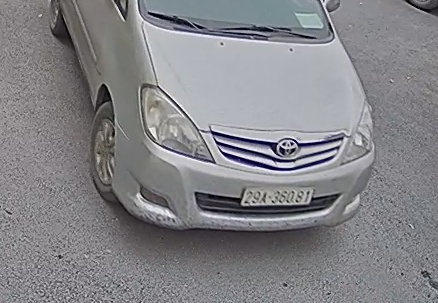vehicle plate: (238, 181, 316, 207)
